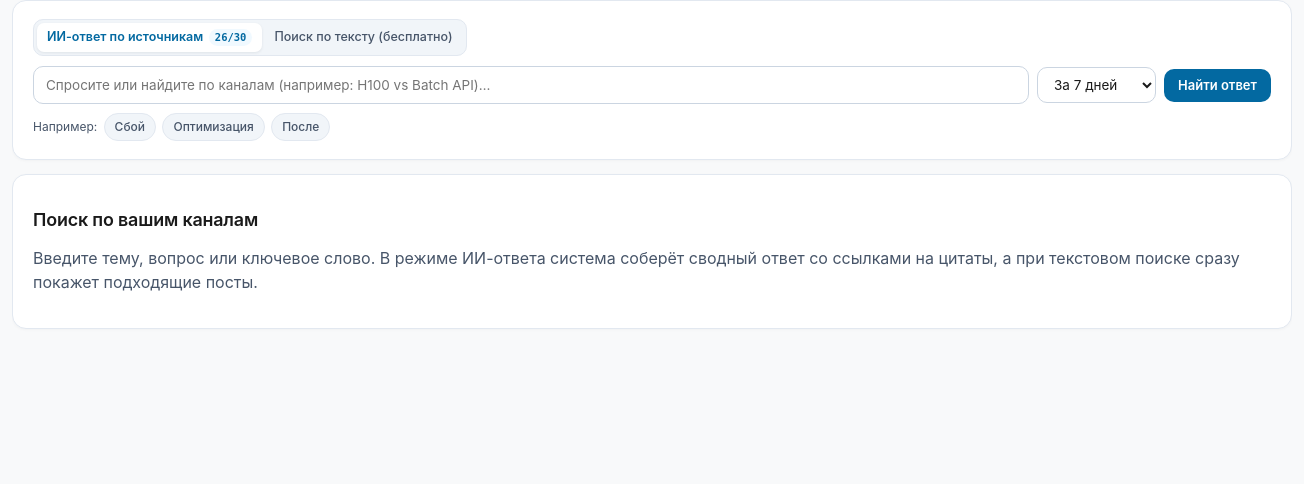
Test: Zero-Trust Onboarding, Channel/Addlist Parser & Toggle View UI (SPEC 5.1, 5.2) › renders Two-Tier RAG results, switches to local FTS5 search, and shows stance matrix
Expected: the heading "Поиск по вашим каналам" is shown, [33,209,258,230]
Switch to local FTS5 search
Click the button "Поиск по тексту (бесплатно)": (364, 37) [264,23,463,52]
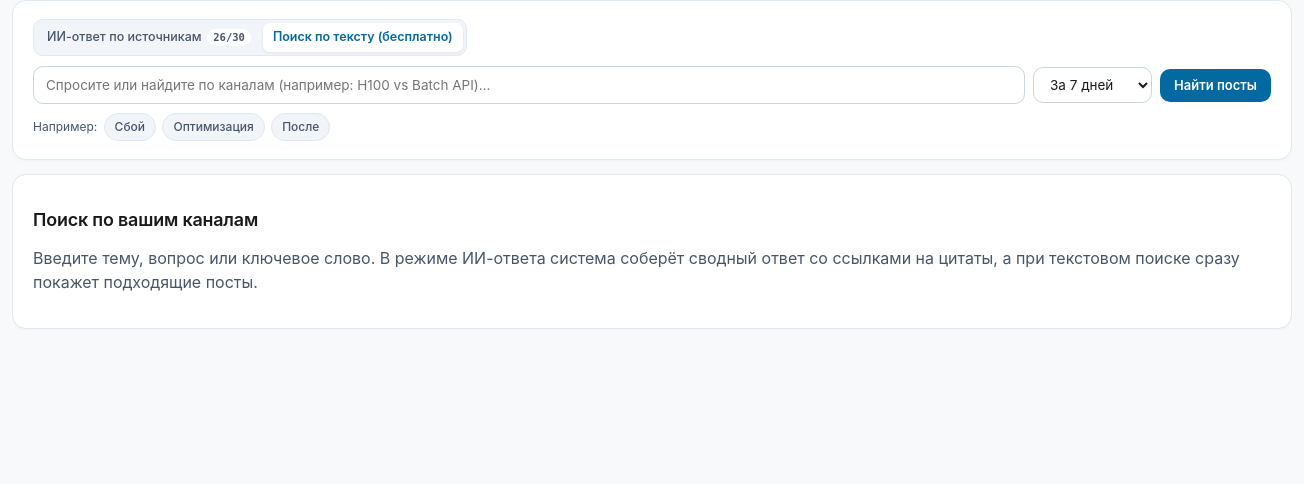
Replace the text in the search field named "Поисковый запрос" with "BGP": (529, 85) [33,66,1025,104]
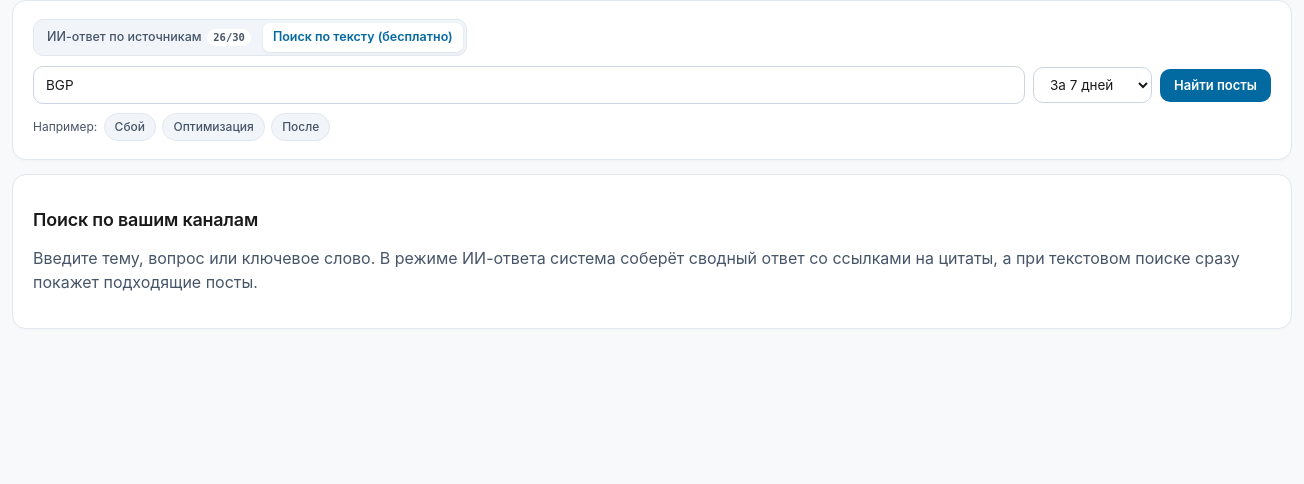
Submit the form named "Поисковый запрос", box [33,66,1271,104]
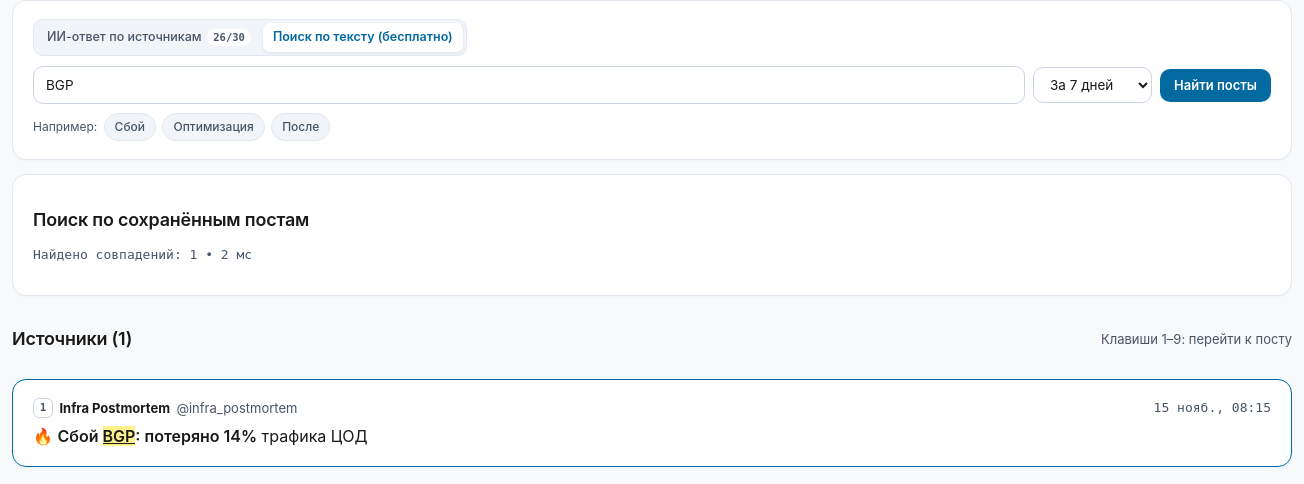
Expected: the heading "Поиск по сохранённым постам" is shown, [33,209,309,230]
Expected: the text "Найдено совпадений: 1" is shown, [33,247,252,262]
